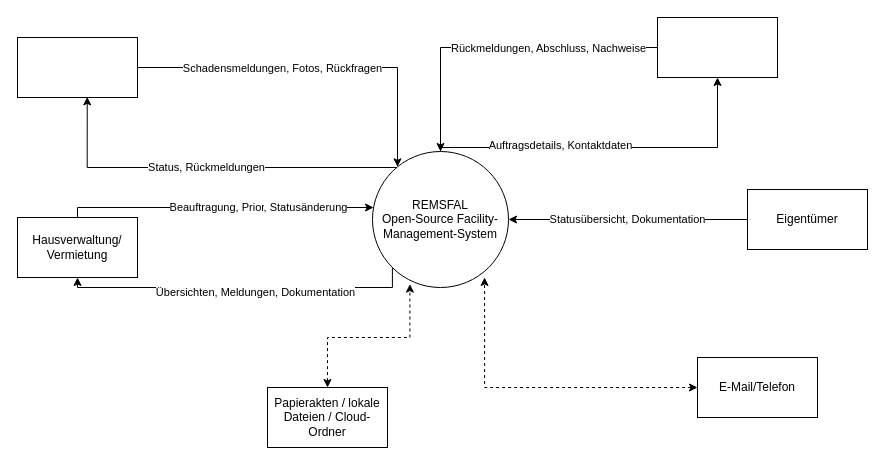
The diagram is 885 pixels wide and 465 high, and some of its shapes have lost their labels. The shapes that lost their labels are listed below. From the top down, each one's box as (x1, y1, x2, y2) in pixels, then its label:
(16, 36, 138, 98): Mieter:in
(656, 16, 778, 78): Handwerker
